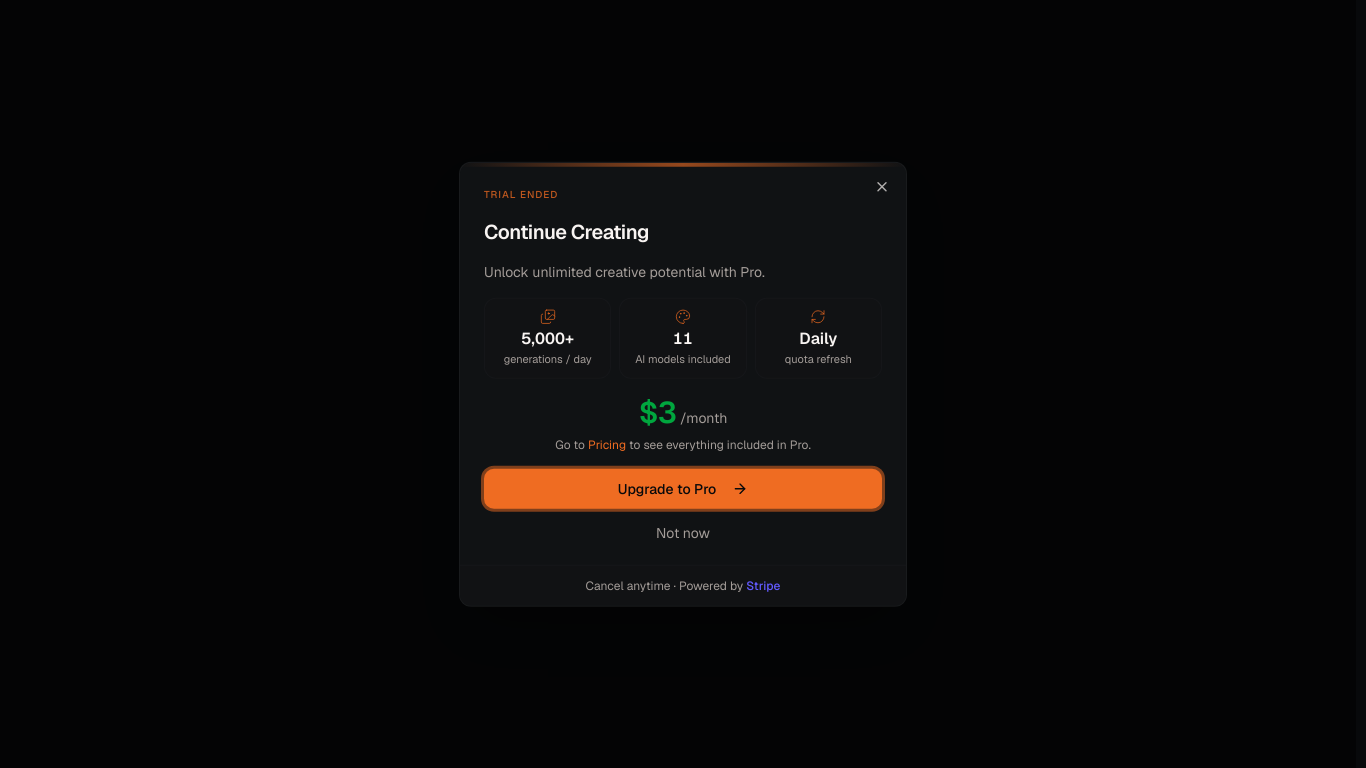
UpgradeModal › handles checkout loading state
Step 1. Click the button "Upgrade to Pro" → (683, 488), box [484,468,882,508]
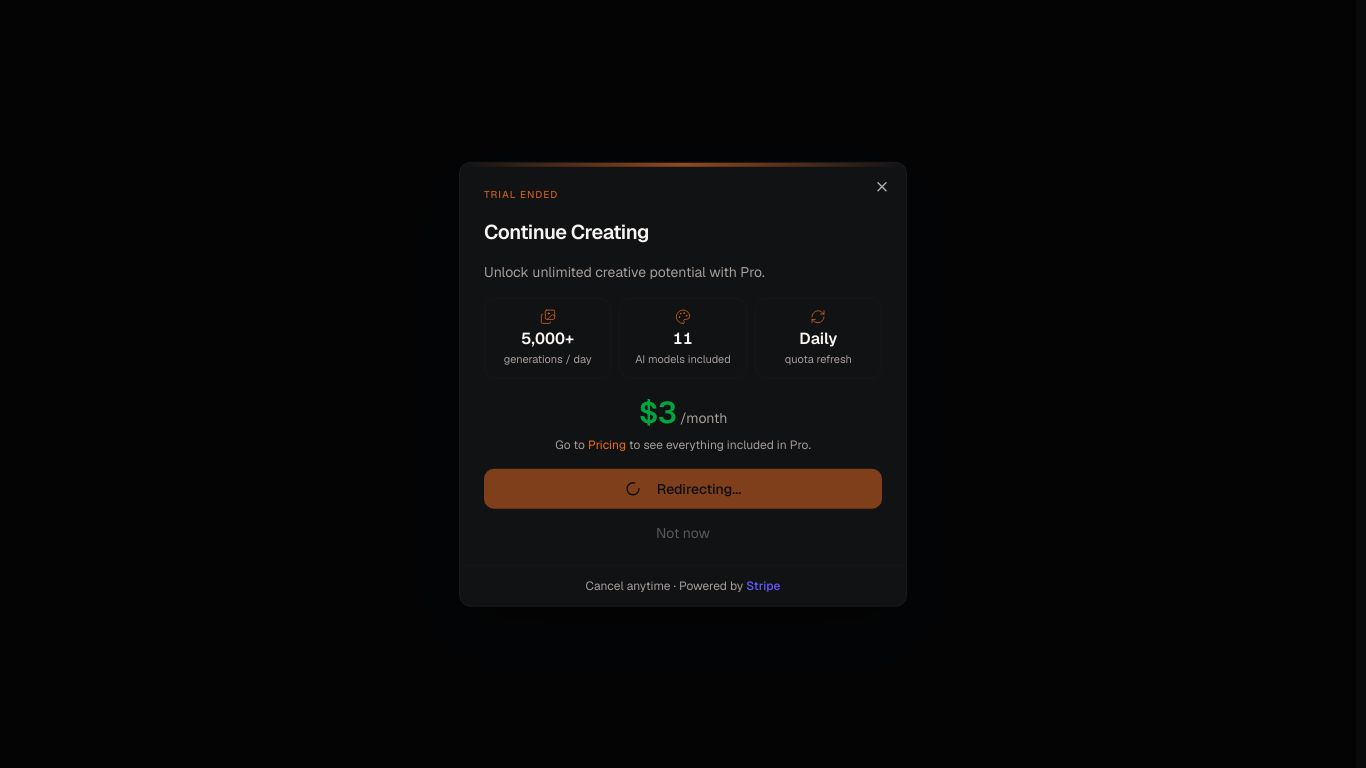
Result: the button "Redirecting..." is disabled at [484,468,882,508]
